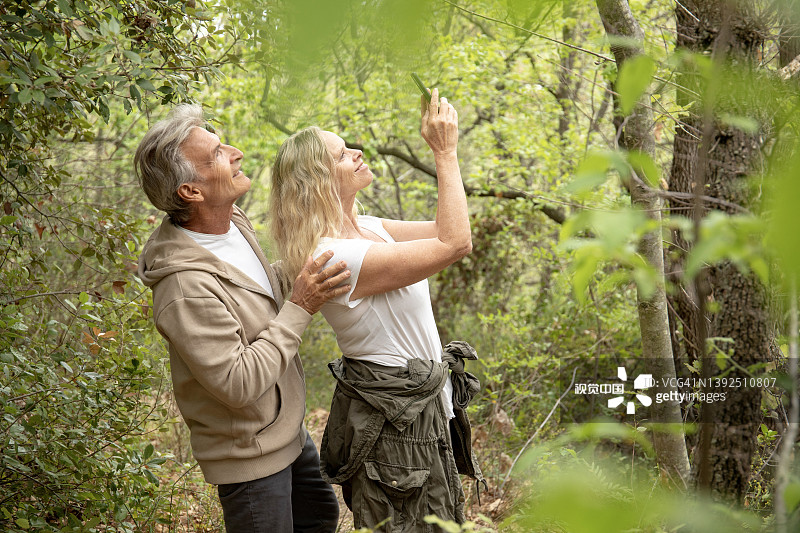no-phone: (283, 242, 358, 317)
taking photos: (404, 64, 468, 181)
